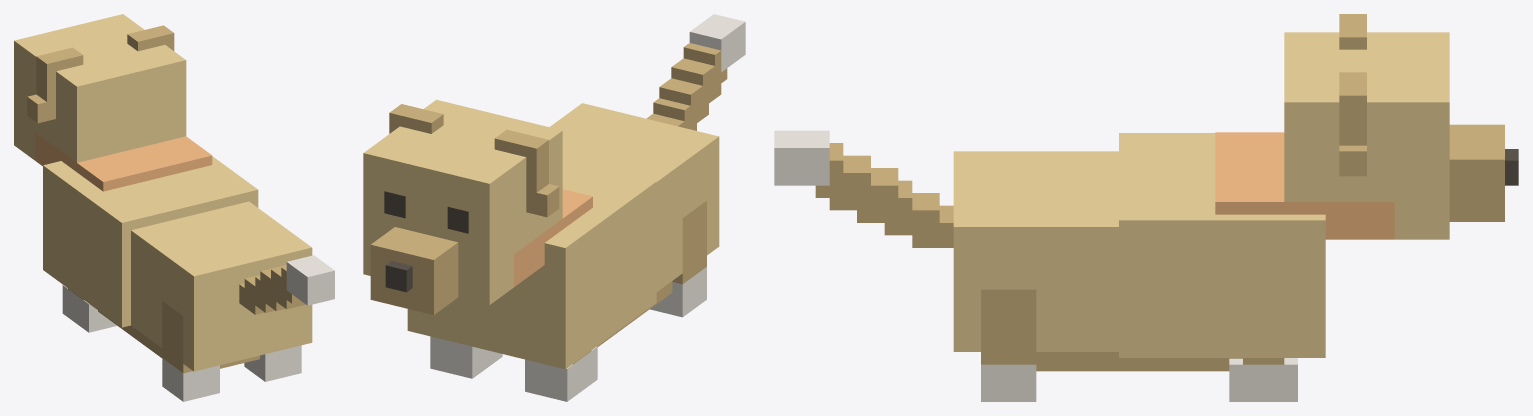
File: golden.glb
3 renders of one model, left to right at view 1: azimuth 30°, elevation 25°; view 2: azimuth 150°, elevation 25°; view 3: azimuth 270°, elevation 25°, orthographic. The views are drawn at different scales.
Parts seen in each view (by area): view 1: root; view 2: root; view 3: root.
Boxes of the visible parts, <box> form: root: <box>14,14,334,401</box>; root: <box>363,14,745,401</box>; root: <box>774,14,1518,401</box>.
Size of the model in its own units: 0.56 by 0.875 by 1.89.
